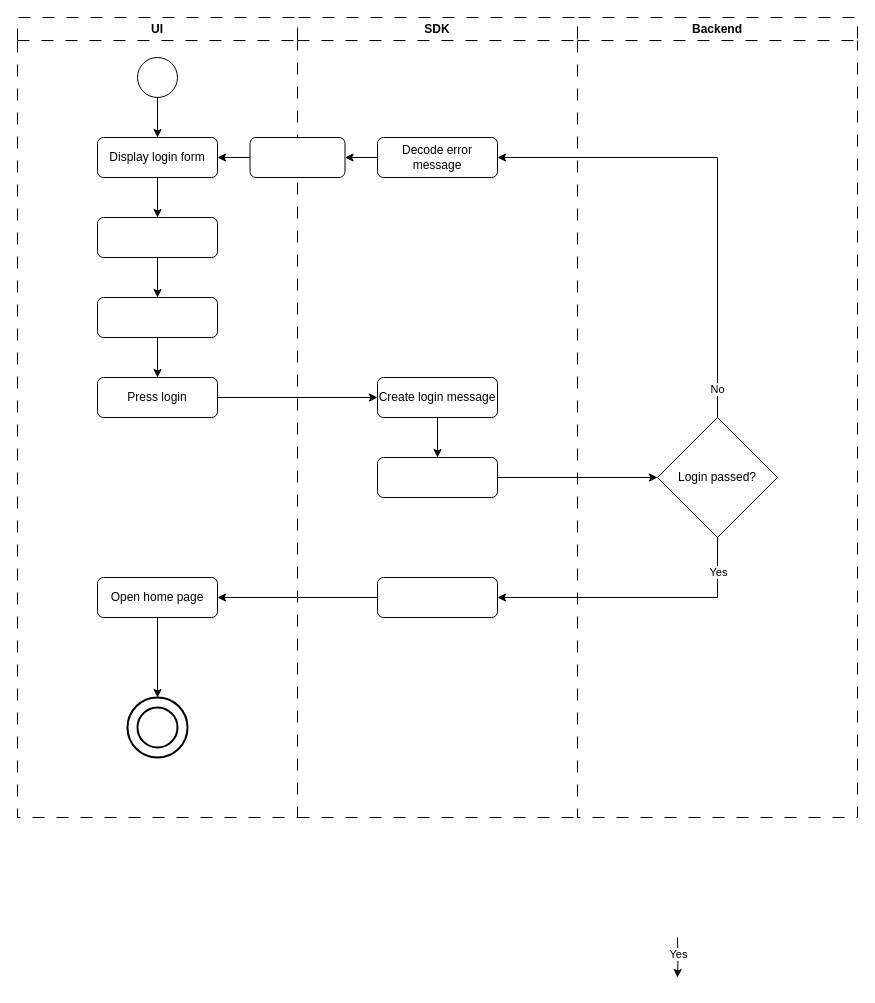
The diagram is 875 pixels wide and 1003 high, and some of its shapes have lost their labels. Here are the shapes that lost their labels. From the top down, the centre of each, then its label:
pixel 297 157: Display login error
pixel 157 237: Enter username
pixel 157 317: Enter password
pixel 437 477: Send login message
pixel 437 597: Decode response message
